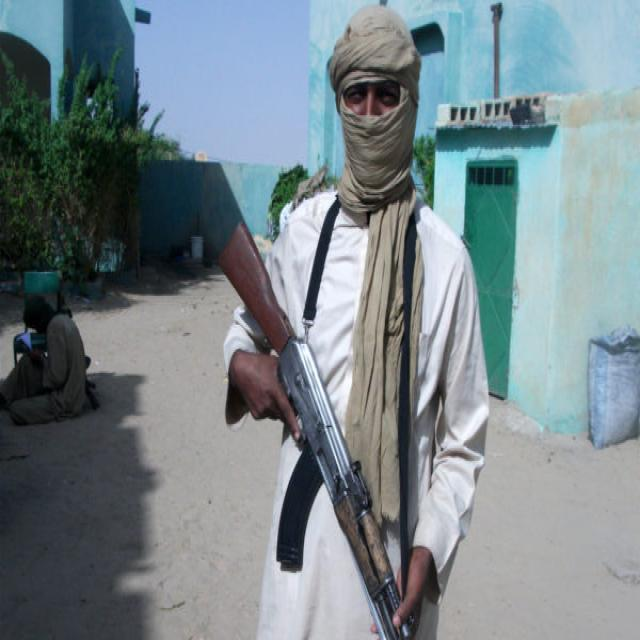Militant: (221, 0, 500, 640)
